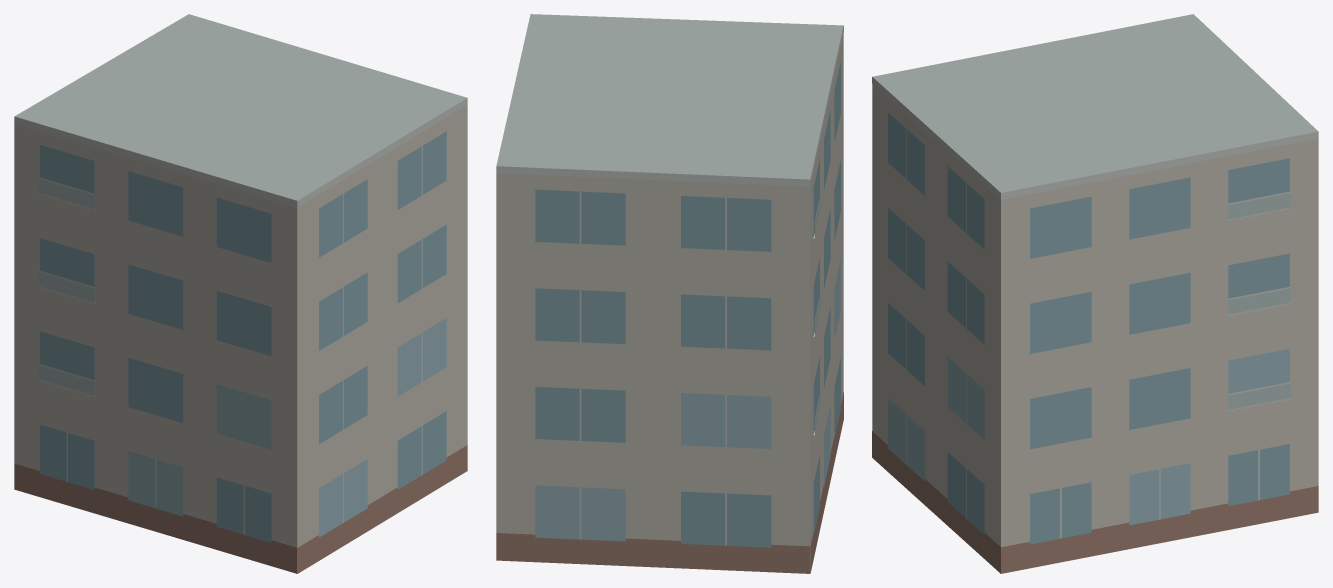
Rendered from survey-upis-32731829.glb.
3 views of the same model, side by side, from view 1: azimuth 30°, elevation 25°; view 2: azimuth 150°, elevation 25°; view 3: azimuth 270°, elevation 25° (orthographic). The views are drawn at different scales.
Parts seen in each view (by area): view 1: survey-upis-32731829.tmp; view 2: survey-upis-32731829.tmp; view 3: survey-upis-32731829.tmp.
Part boxes in pixels (bbox=[...]): survey-upis-32731829.tmp: bbox=[14, 14, 467, 573]; survey-upis-32731829.tmp: bbox=[496, 14, 843, 573]; survey-upis-32731829.tmp: bbox=[872, 14, 1318, 573].
Size of the model in its own units: 13.37 by 13.26 by 14.09.
